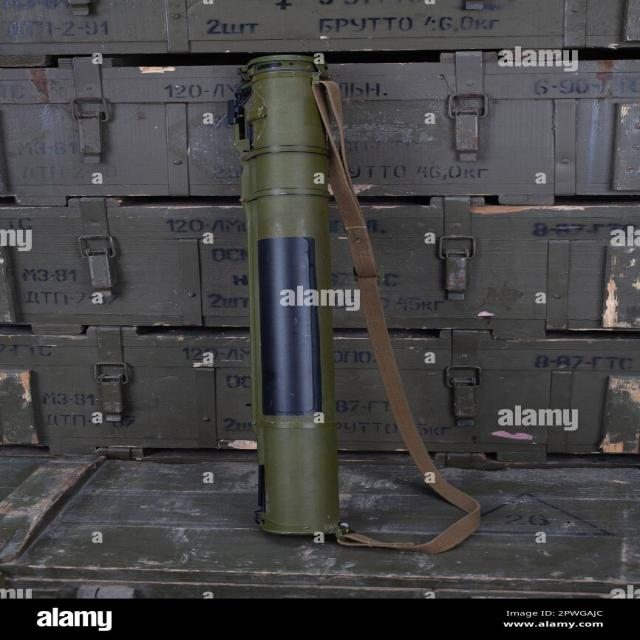bazooka: (181, 50, 495, 561)
